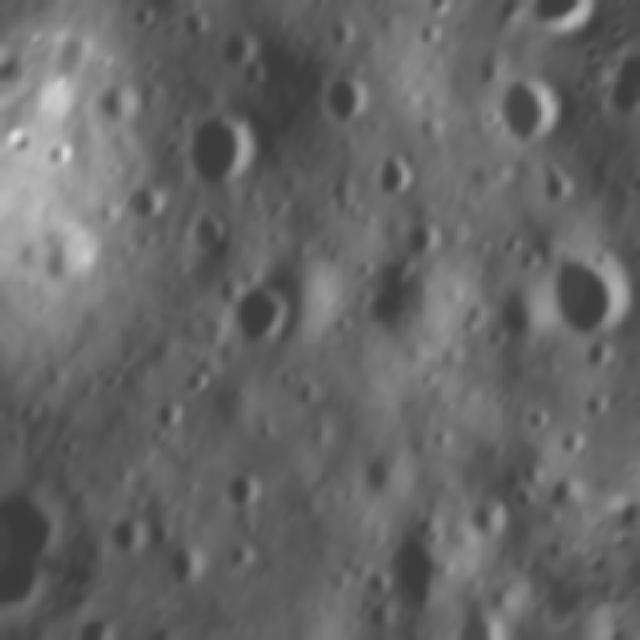crater: (535, 240, 640, 352), (176, 113, 279, 207), (0, 483, 83, 572), (485, 78, 578, 157), (227, 275, 296, 356), (202, 21, 270, 90), (309, 70, 380, 136), (367, 146, 424, 217), (156, 544, 219, 604), (107, 512, 167, 568), (183, 212, 245, 263), (445, 603, 513, 640), (213, 466, 264, 514), (520, 402, 555, 450), (554, 422, 595, 462), (574, 384, 614, 424), (506, 483, 537, 528), (50, 132, 79, 180)
